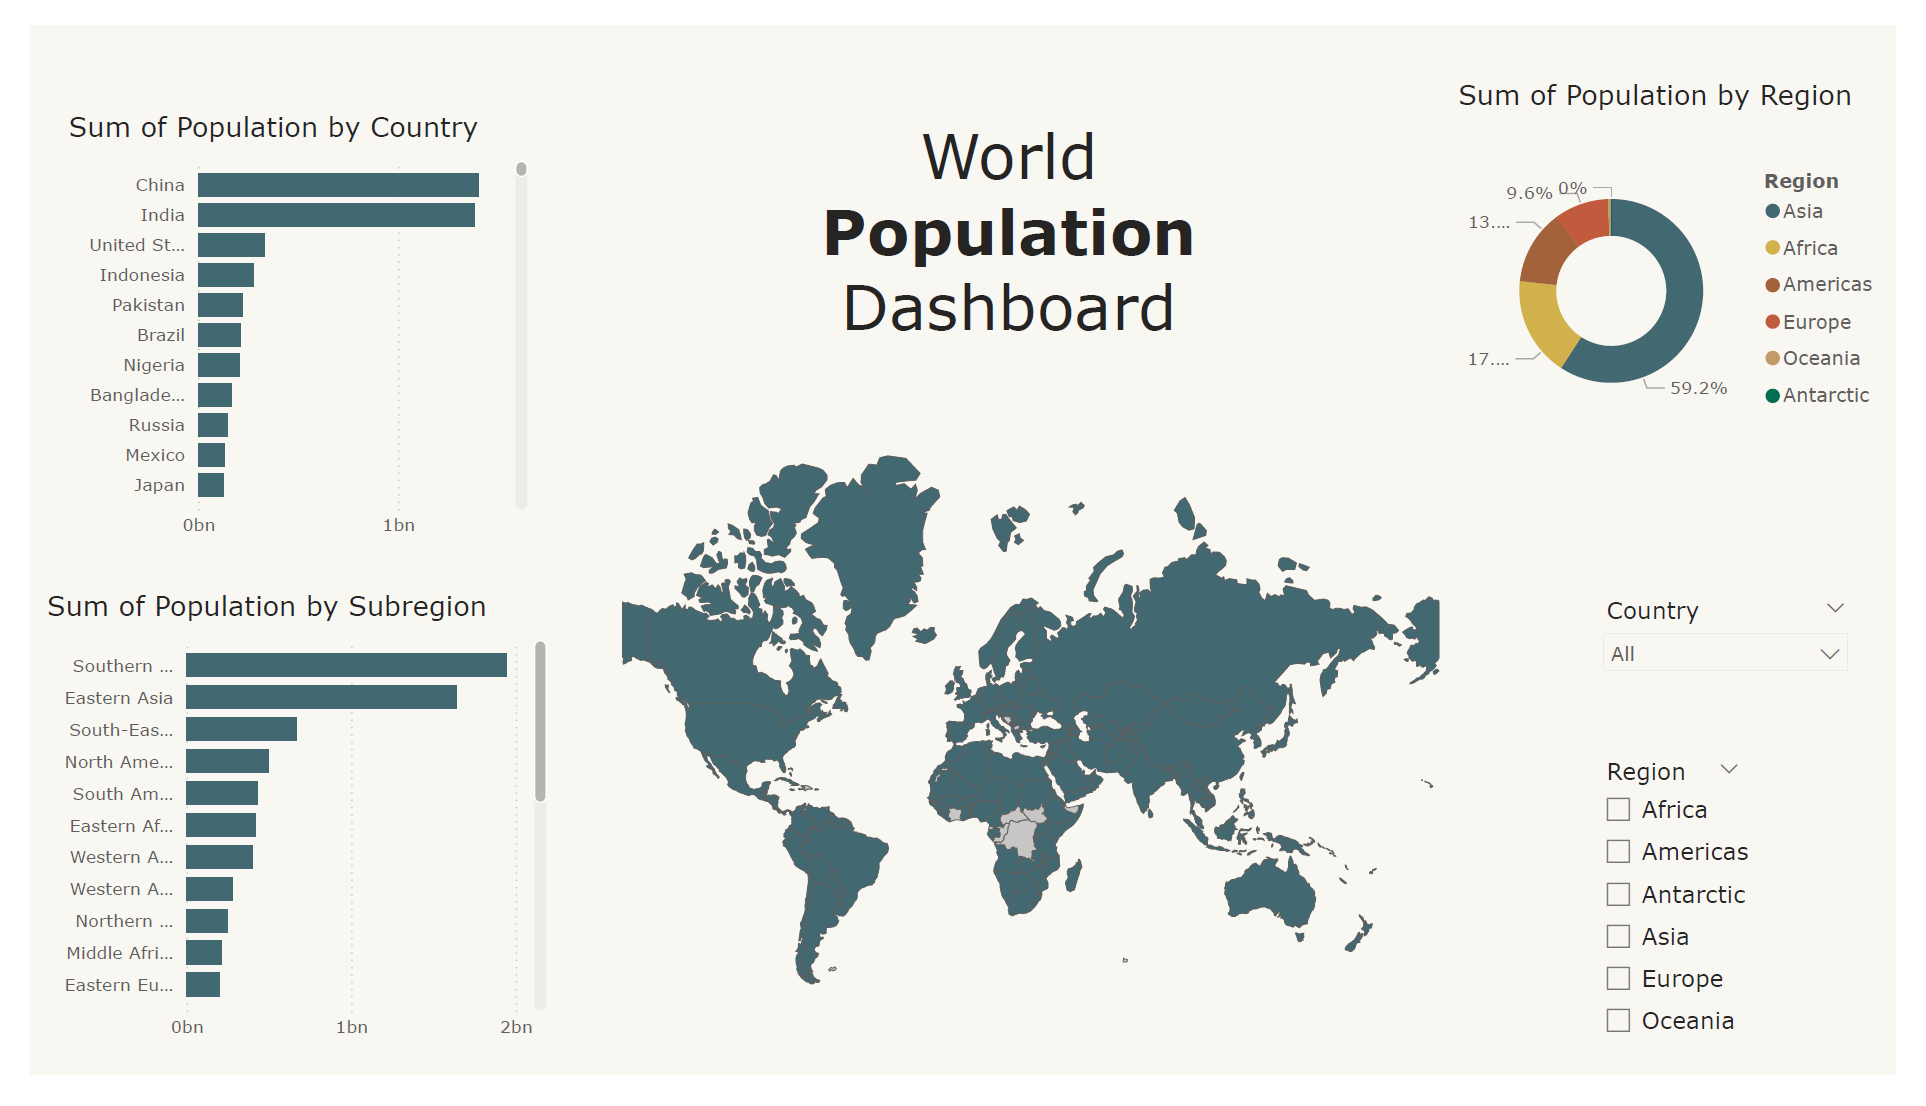

What the dashboard file says about the page in this screenshot:
{"tool":"powerbi","page":{"name":"Page 1","canvas":[1280,720],"ordinal":0},"visuals":[{"type":"shapeMap","fields":{"Category":["Query1.Country"]},"box":[370.2,248.9,633.3,455.3],"z":0},{"type":"slicer","fields":{"Values":["Query1.Region"]},"box":[1069.2,496.6,116.1,207.7],"z":1},{"type":"clusteredBarChart","fields":{"Category":["Query1.Country"],"Y":["Sum(Query1.Population)"]},"box":[20.6,56.8,325,303.1],"z":2},{"type":"clusteredBarChart","fields":{"Category":["Query1.Subregion"],"Y":["Sum(Query1.Population)"]},"box":[6.4,385.6,352.1,318.6],"z":3},{"type":"donutChart","fields":{"Category":["Query1.Region"],"Y":["Sum(Query1.Population)"]},"box":[975.1,34.8,304.4,270.9],"z":4},{"type":"textbox","box":[507.8,57.4,326.7,192.1],"z":5},{"type":"slicer","fields":{"Values":["Query1.Country"]},"box":[1069.2,385.6,188.3,63.2],"z":6}]}

Visuals, with their boxes in screenshot pixels (x1, y1, x2, y2), scaled from the page's 1280x720 canvas onto the 1926x1106 screenshot:
shapeMap - Query1.Country: <bbox>557, 382, 1510, 1082</bbox>
slicer - Query1.Region: <bbox>1609, 763, 1784, 1082</bbox>
clusteredBarChart - Query1.Country x Sum(Query1.Population): <bbox>31, 87, 520, 553</bbox>
clusteredBarChart - Query1.Subregion x Sum(Query1.Population): <bbox>10, 592, 539, 1082</bbox>
donutChart - Query1.Region x Sum(Query1.Population): <bbox>1467, 53, 1925, 470</bbox>
textbox: <bbox>764, 88, 1256, 383</bbox>
slicer - Query1.Country: <bbox>1609, 592, 1892, 689</bbox>
